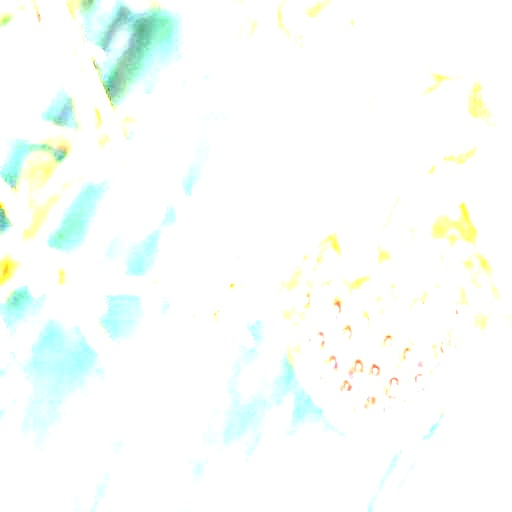Gray Mold: (150, 178, 265, 348)
